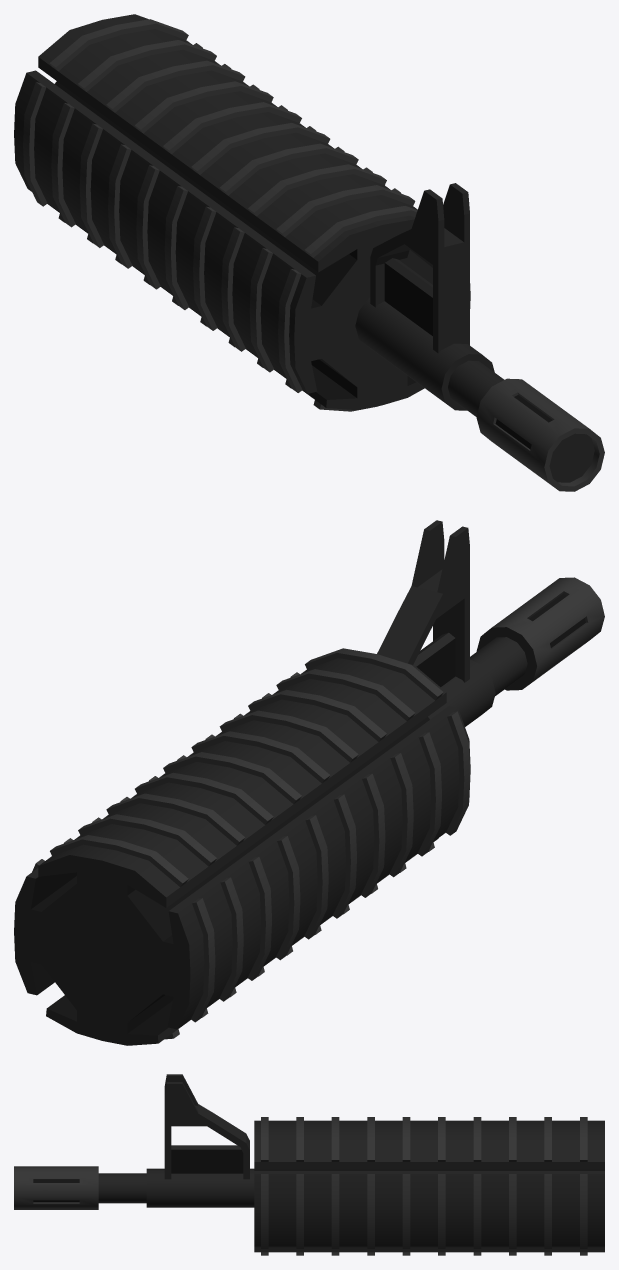
The model's file is barrel_1.fbx.
The picture shows the model from 3 angles, top to bottom: view 1: azimuth 30°, elevation 25°; view 2: azimuth 150°, elevation 25°; view 3: azimuth 270°, elevation 25°; orthographic projection. The views are drawn at different scales.
Parts seen in each view (by area): view 1: barrel_1; view 2: barrel_1; view 3: barrel_1.
Part boxes in pixels (<box>): barrel_1: <box>14,14,604,491</box>; barrel_1: <box>14,520,604,1045</box>; barrel_1: <box>14,1074,604,1255</box>.
Bounding box in the file's own units: 381 × 520 × 1675.
